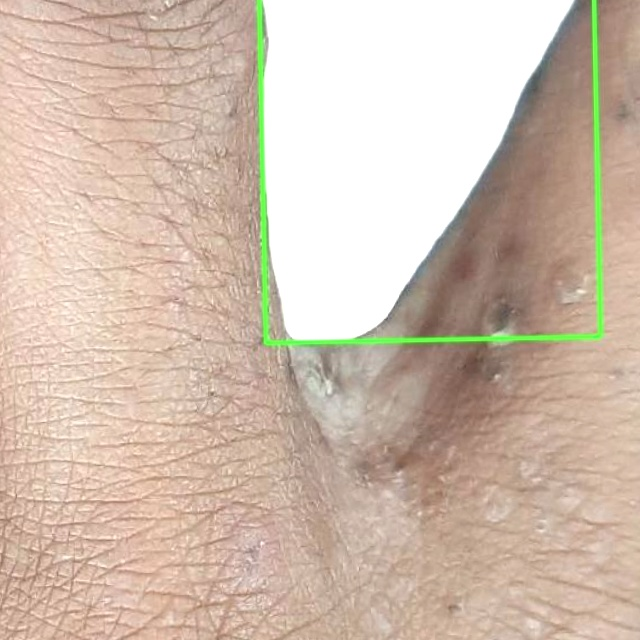Scabies: (259, 0, 600, 343)
